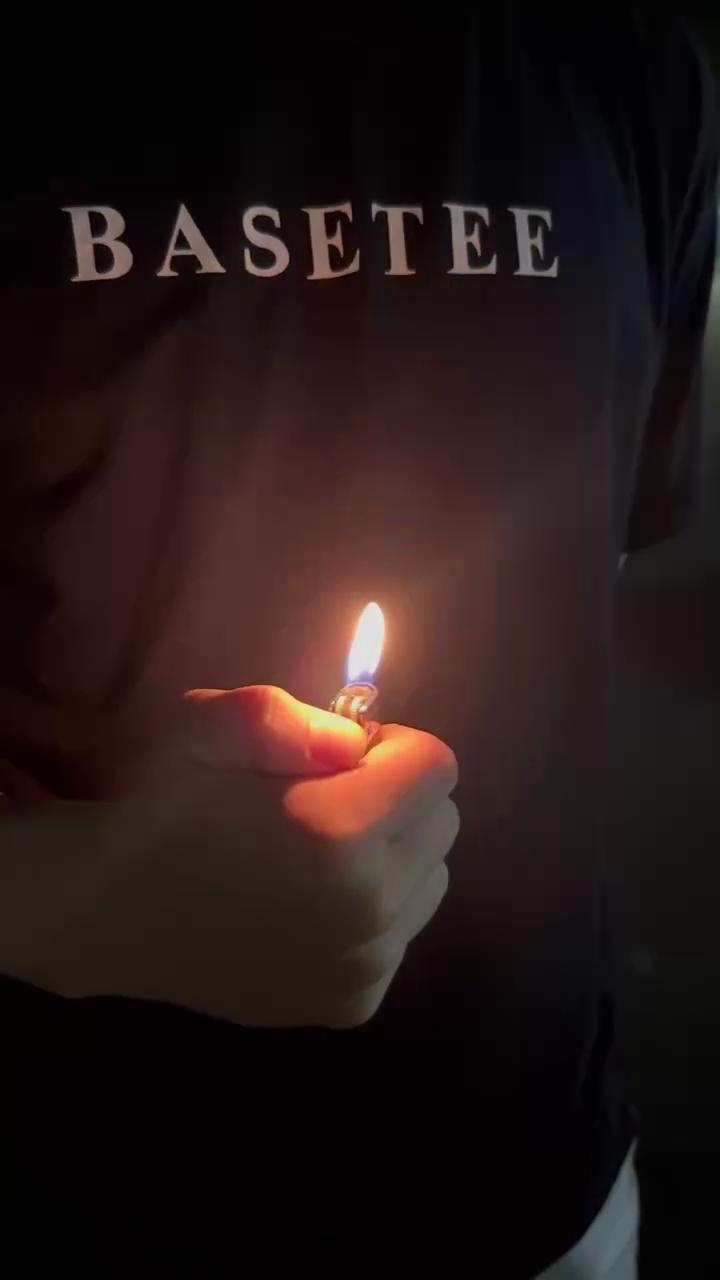Fire: (345, 568, 402, 730), (318, 565, 328, 570)
